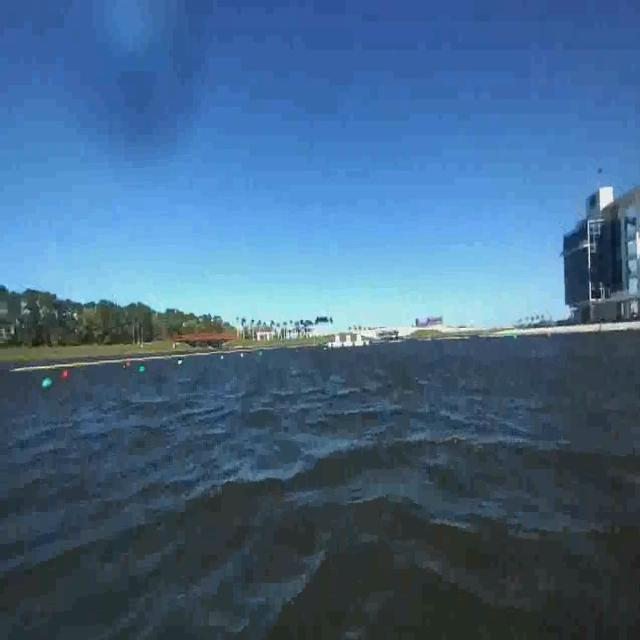green-buoy: (42, 379, 52, 391)
